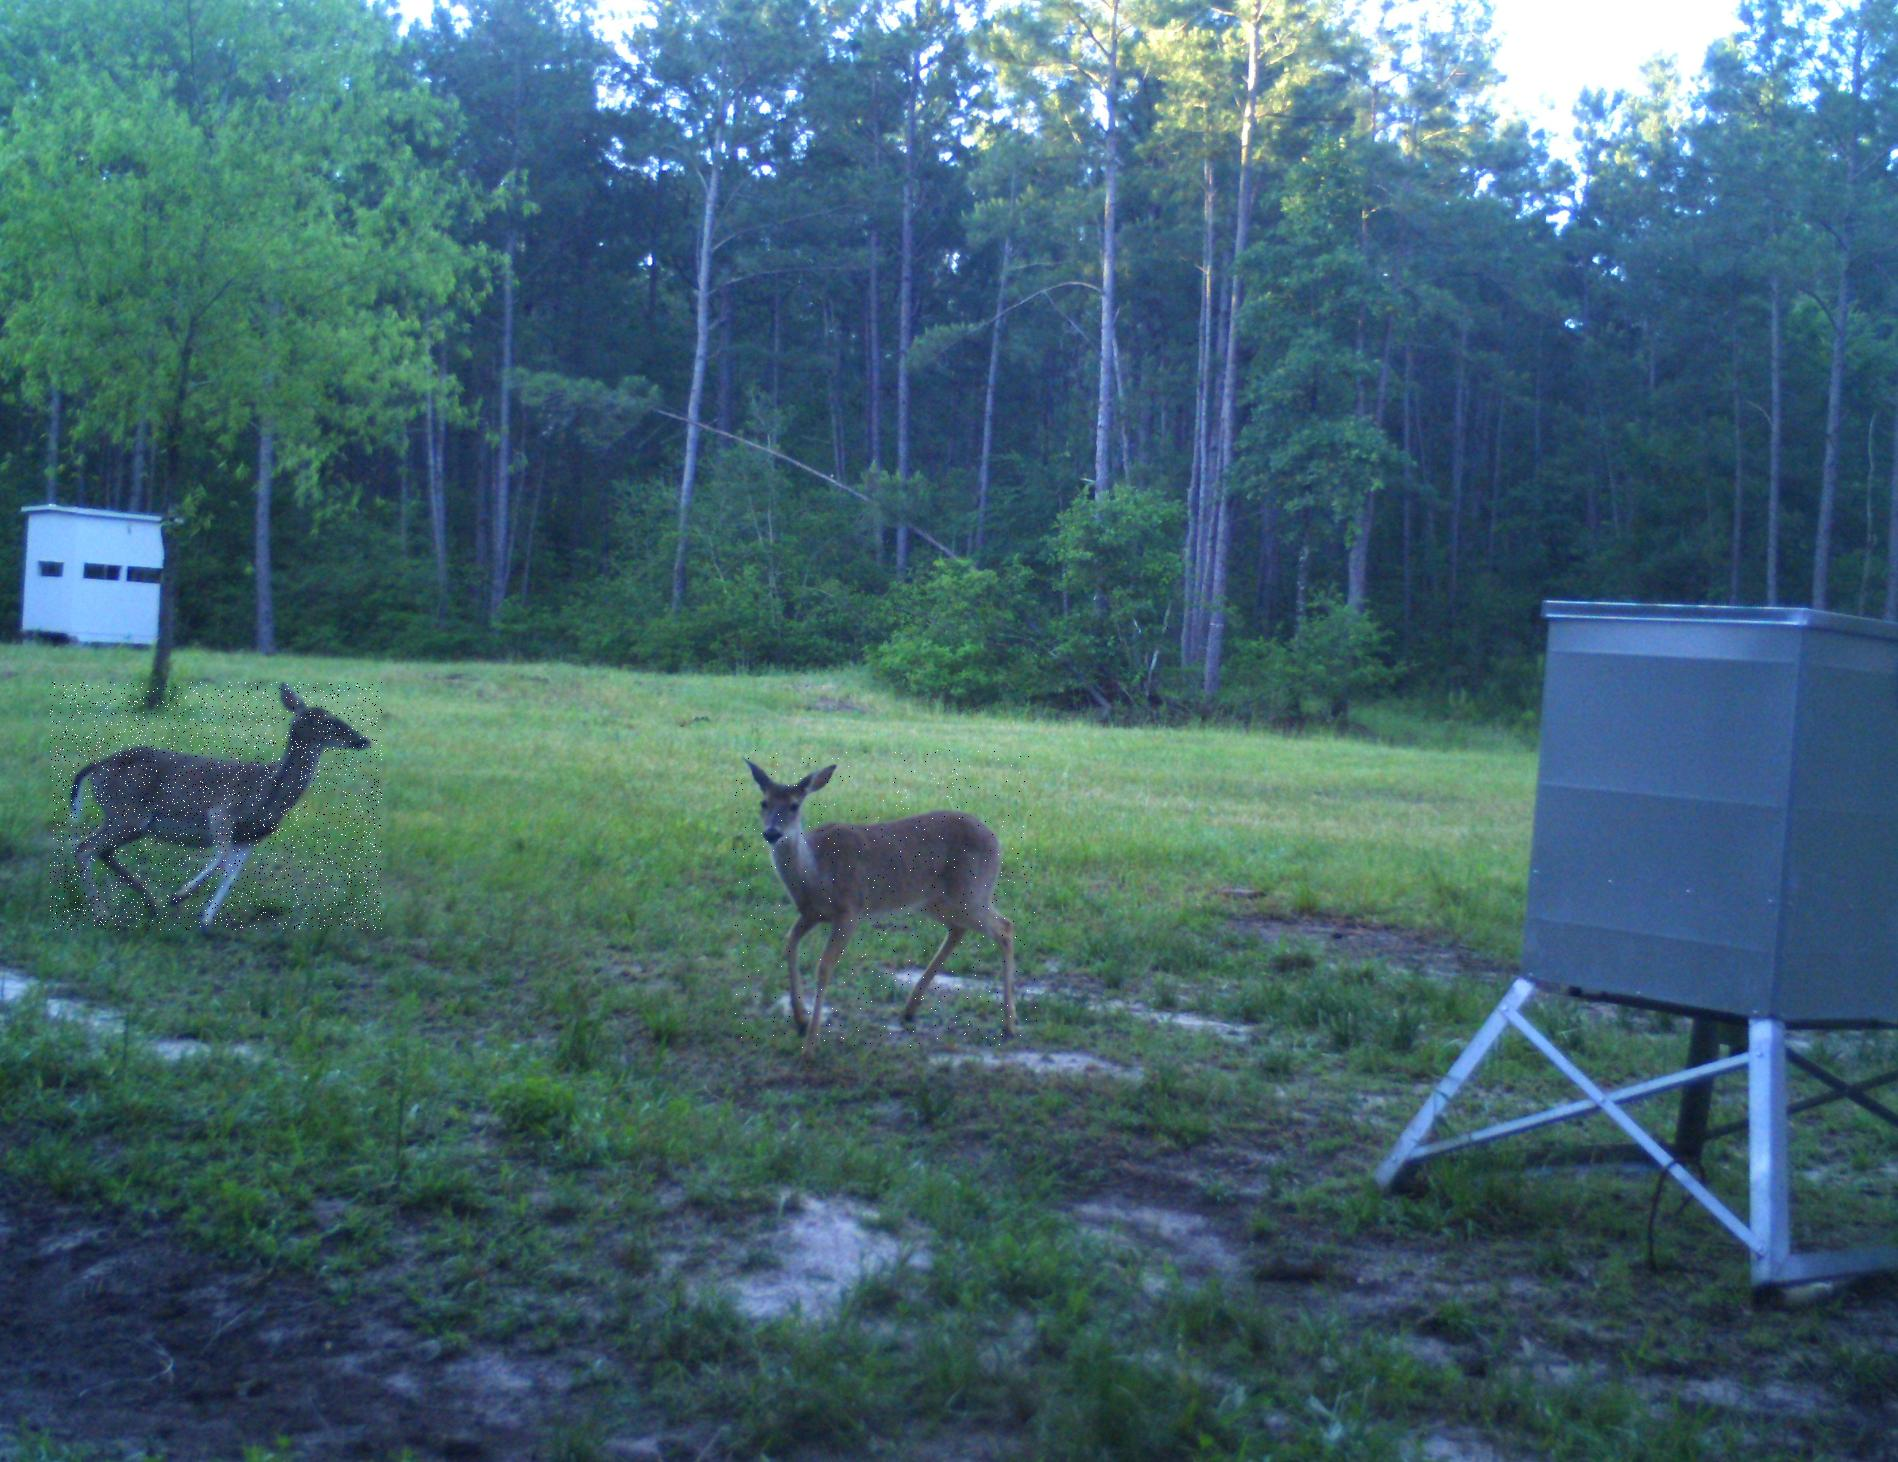Deer: (732, 751, 1037, 1047), (51, 682, 382, 929)
